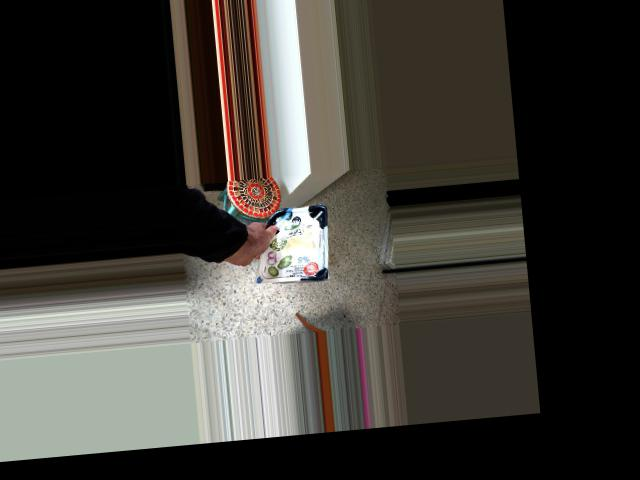cheese: (226, 195, 330, 298)
